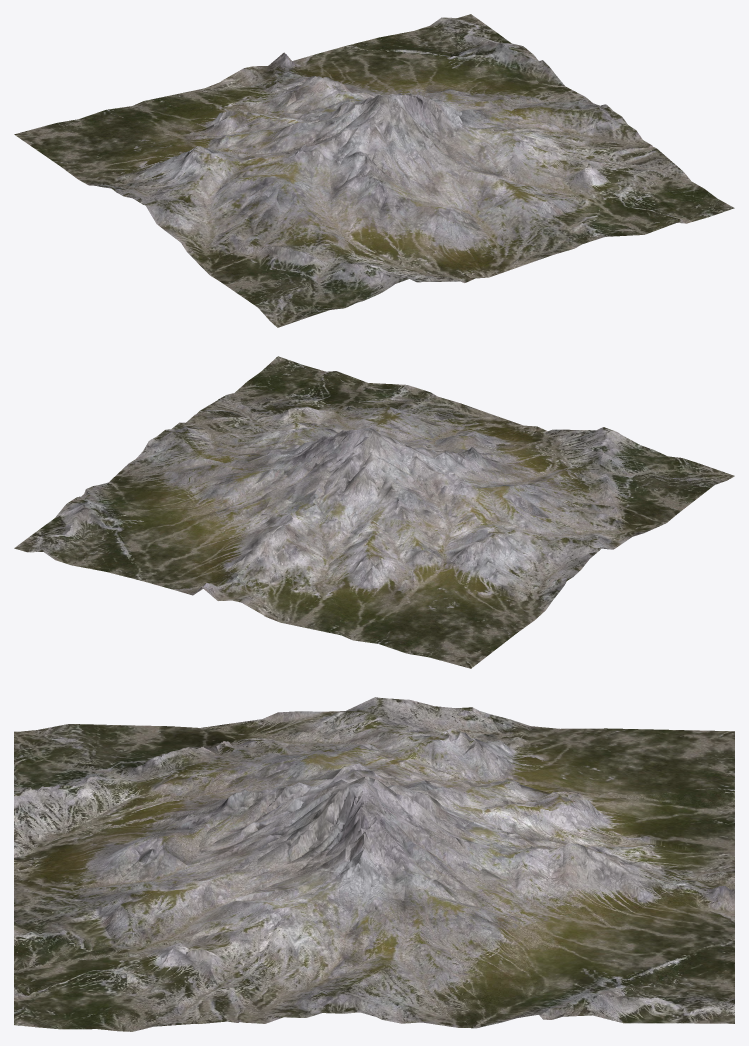
The model's file is hero_mountain.glb.
The picture shows the model from 3 angles, top to bottom: view 1: azimuth 30°, elevation 25°; view 2: azimuth 150°, elevation 25°; view 3: azimuth 270°, elevation 25°; orthographic projection. The views are drawn at different scales.
Visible parts, largest first — view 1: Object_2; view 2: Object_2; view 3: Object_2.
Boxes of the visible parts, x1,y1,x2,y2 form: Object_2: (14,14,734,327); Object_2: (14,356,734,668); Object_2: (14,697,734,1031).
Size of the model in its own units: 2 by 0.3455 by 2.
1 material, 1 textured.
